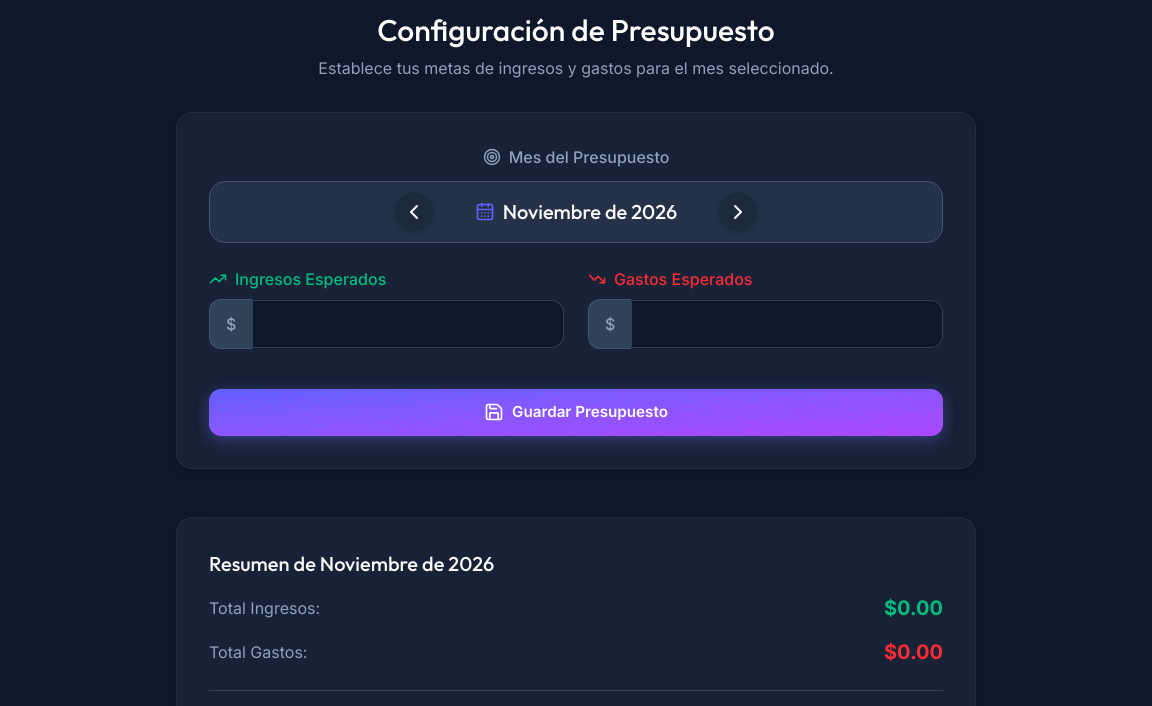
it: BudgetPage component › should trigger saveBudget and display success message on submit
This screenshot has width=1152, height=706.
# Type new budget inputs
In the number field labelled "Ingresos Esperados": {"x": 408, "y": 324} [252, 300, 564, 348], type "2000"
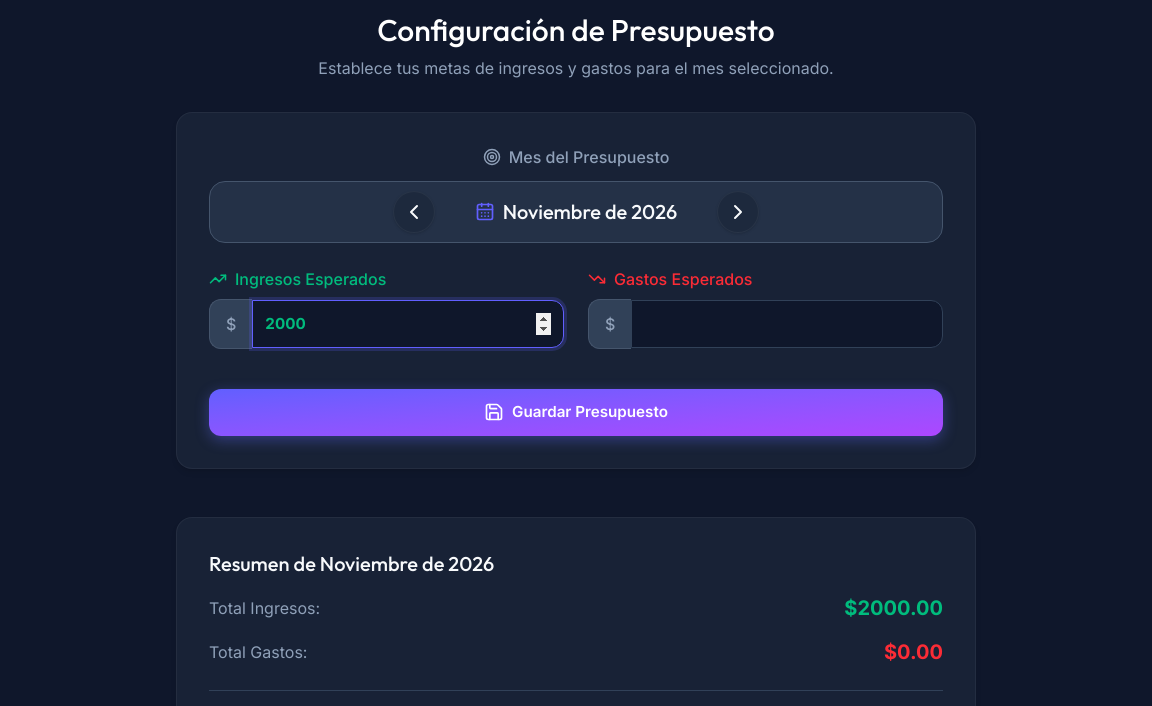
In the number field labelled "Gastos Esperados": {"x": 787, "y": 324} [631, 300, 943, 348], type "1000"
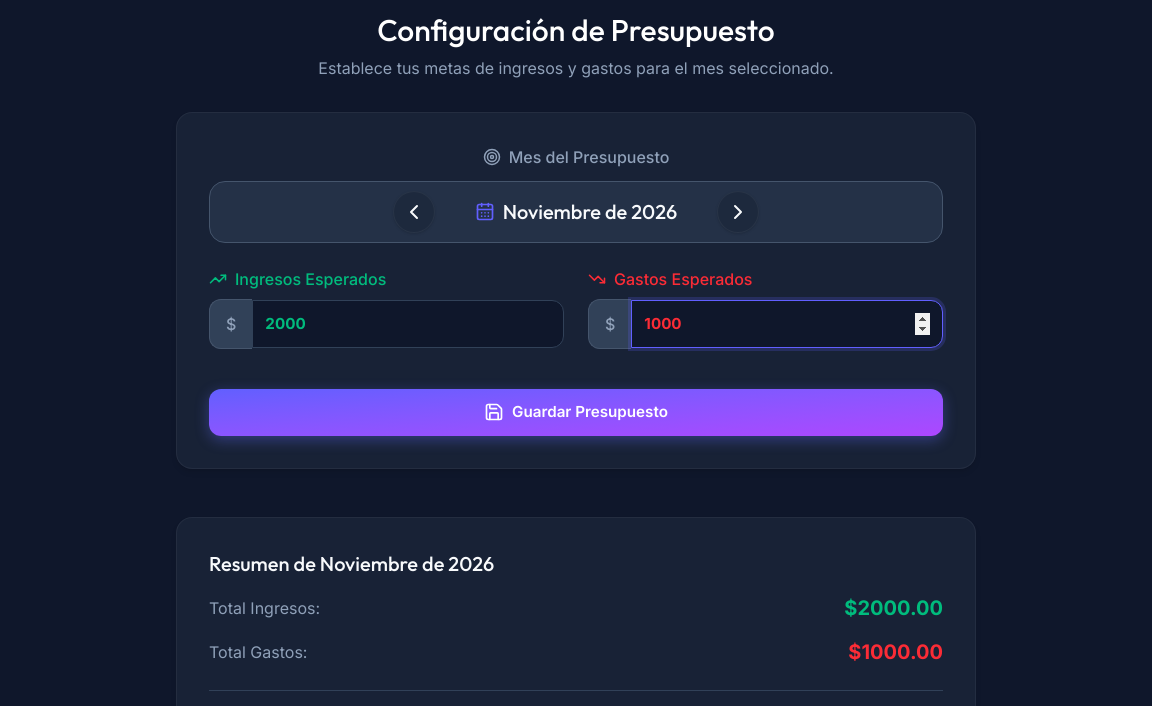
Click the button "Guardar Presupuesto": {"x": 576, "y": 412} [209, 389, 943, 436]
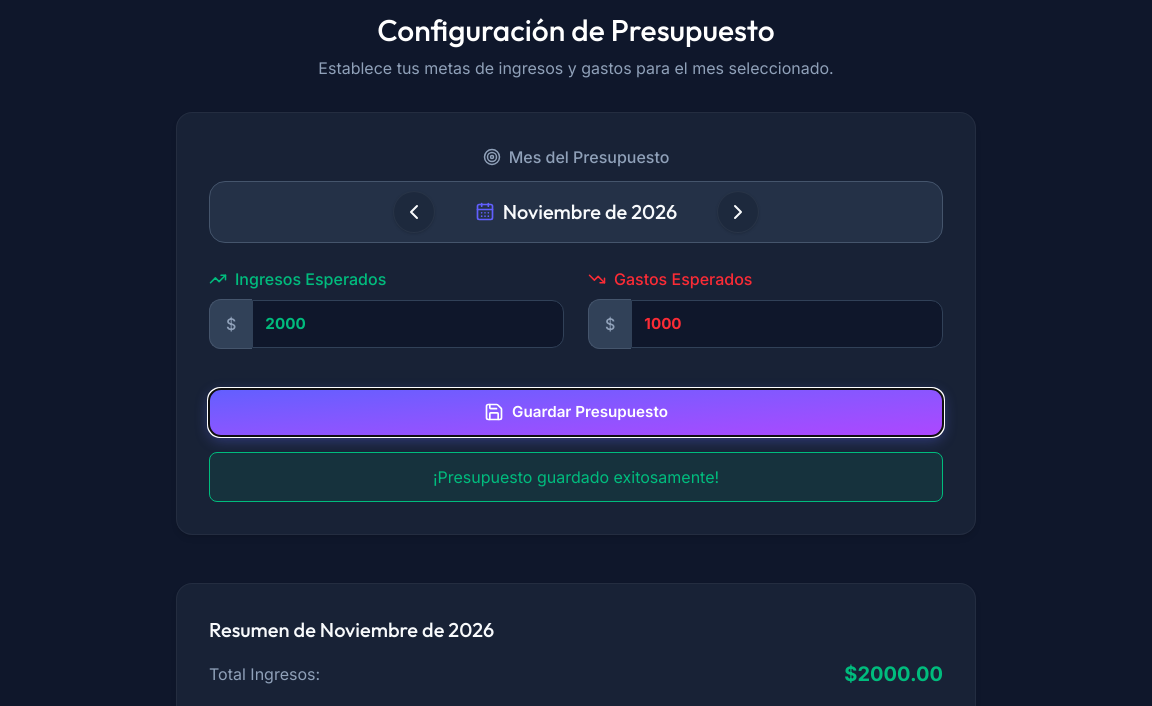
Check: the text "¡Presupuesto guardado exitosamente!" is shown, box [209, 452, 943, 502]
